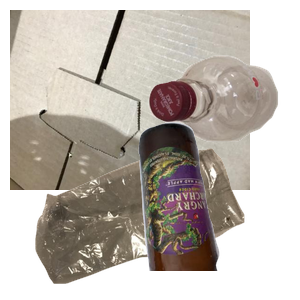cardboard: (10, 10, 250, 190)
glass: (136, 120, 300, 300)
plastic: (146, 53, 300, 187)
trash: (33, 145, 270, 300)
